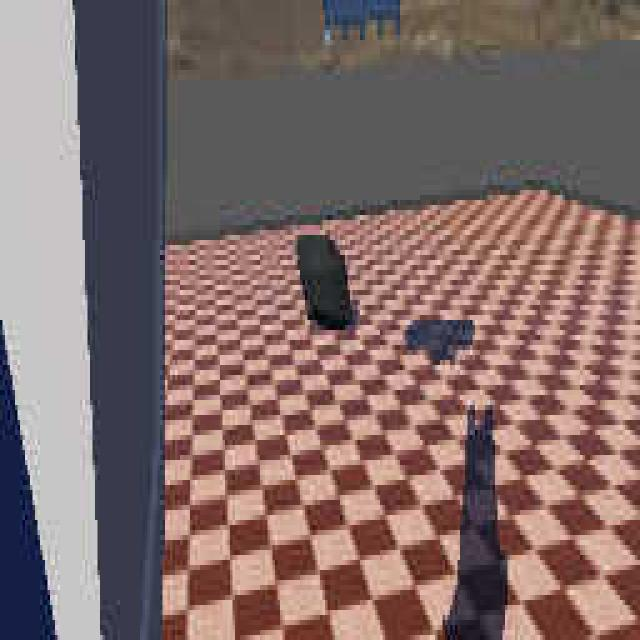rock: (295, 228, 355, 334)
